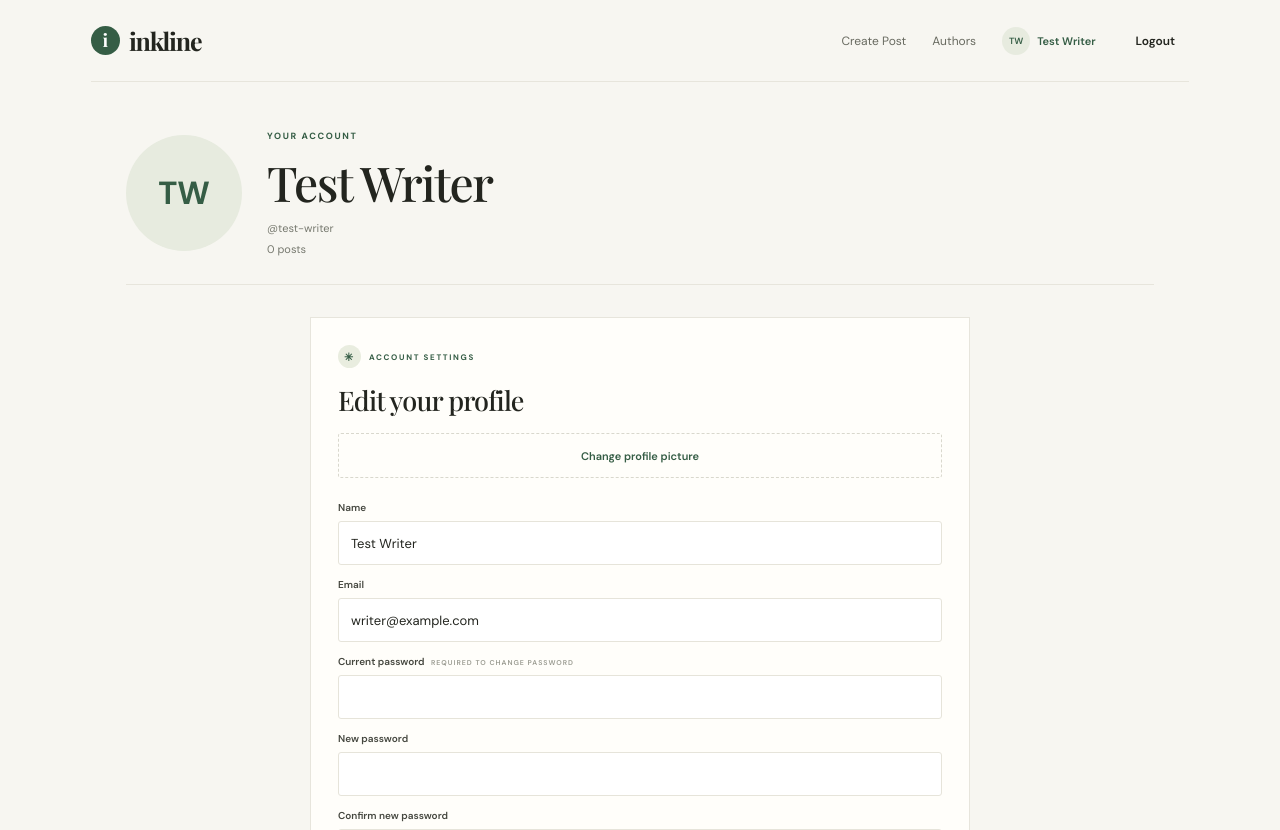
Test: own profile edits are saved through the authenticated profile API
The width and height of the screenshot is (1280, 830).
Replace the text in the field labelled "Name" with "Updated Writer": (640, 543) [338,521,942,565]
(page scrolled)
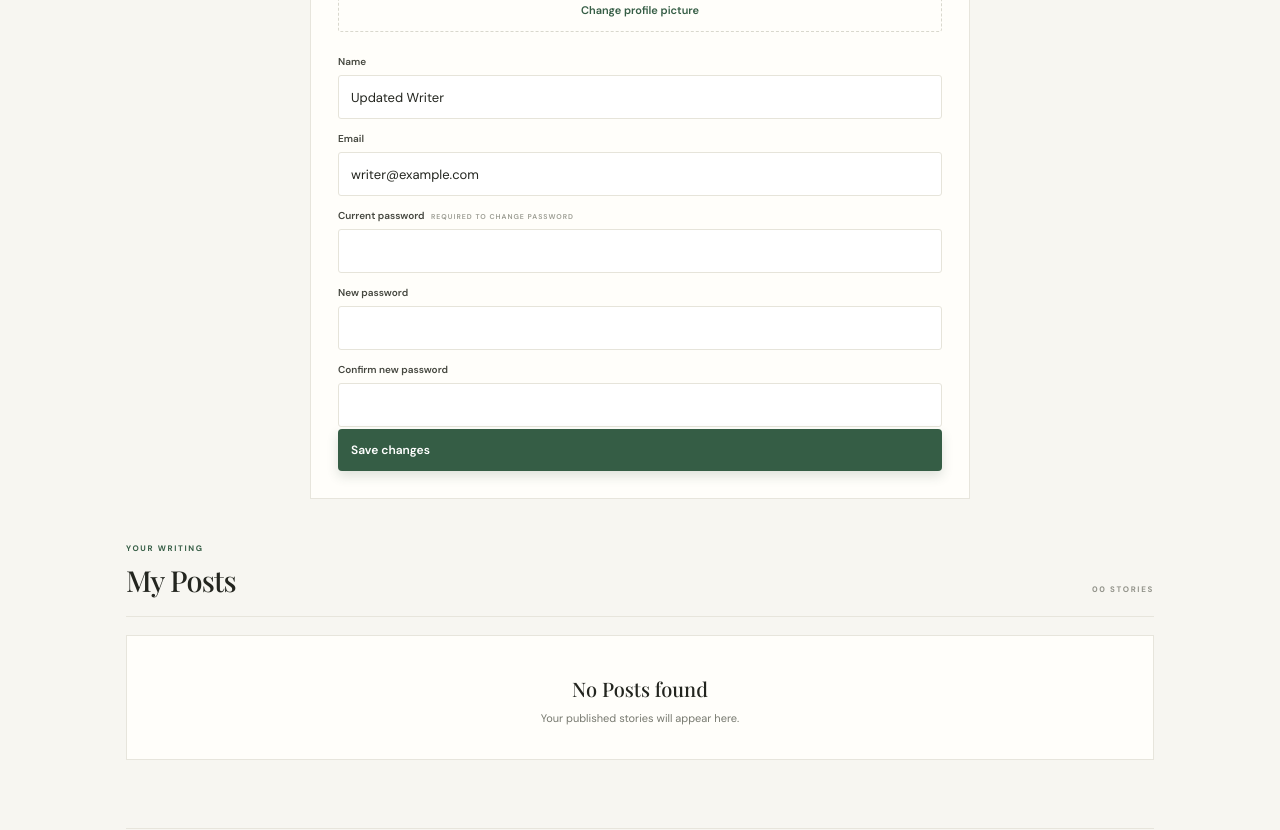
Click the button "Save changes": (390, 450) [338,429,942,471]
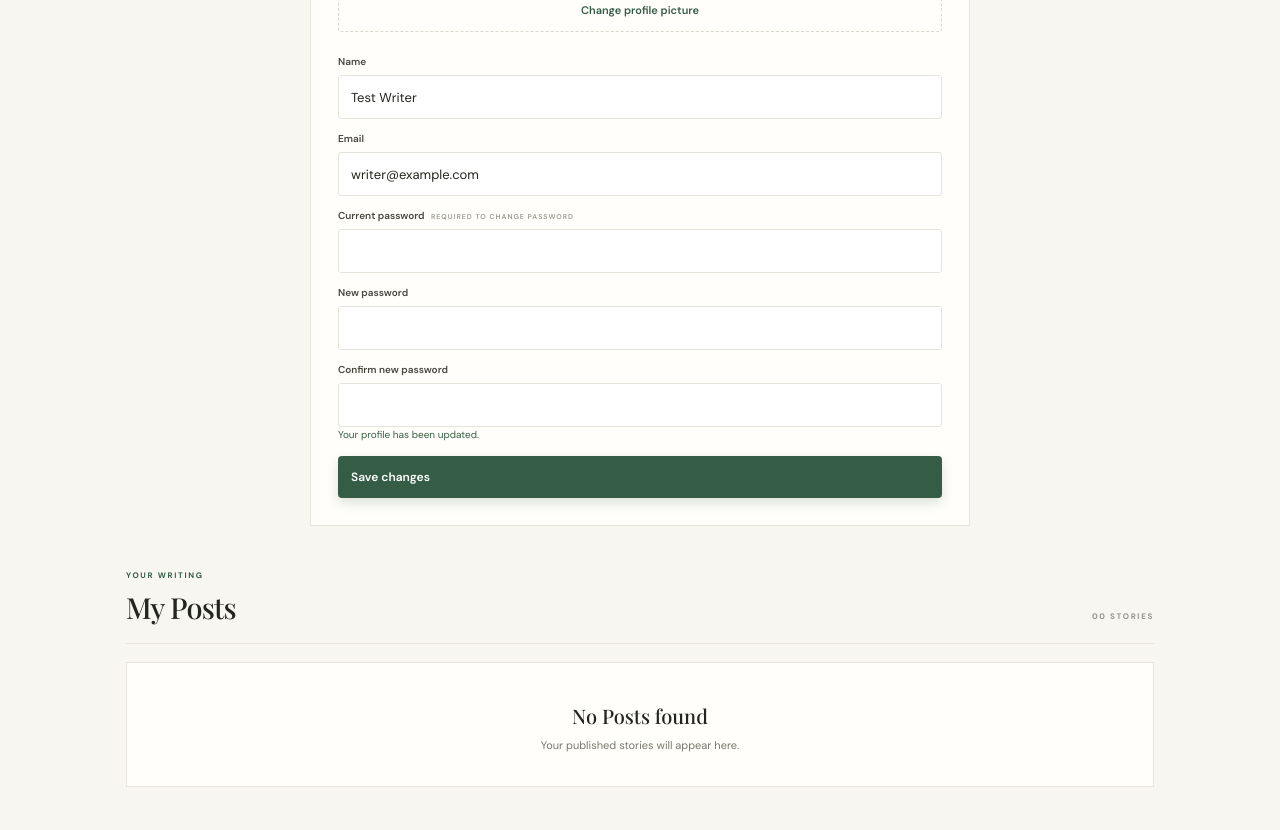
Result: the message reads "Your profile has been updated." at [338,428,479,441]
